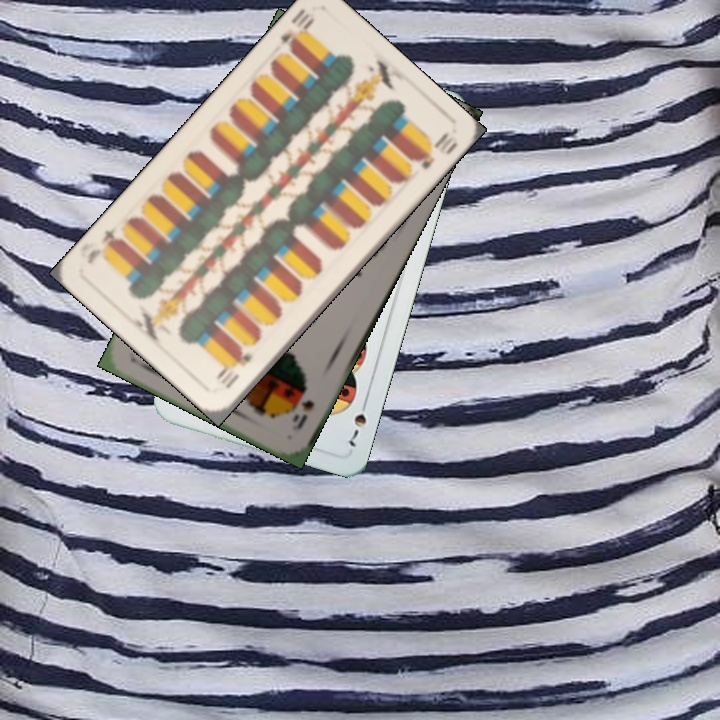E10: (276, 4, 317, 55), (214, 348, 256, 392)
S7: (343, 394, 371, 451)
SO: (288, 382, 317, 433)
